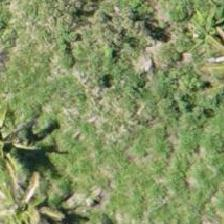coconut_tree: (0, 87, 60, 177)
